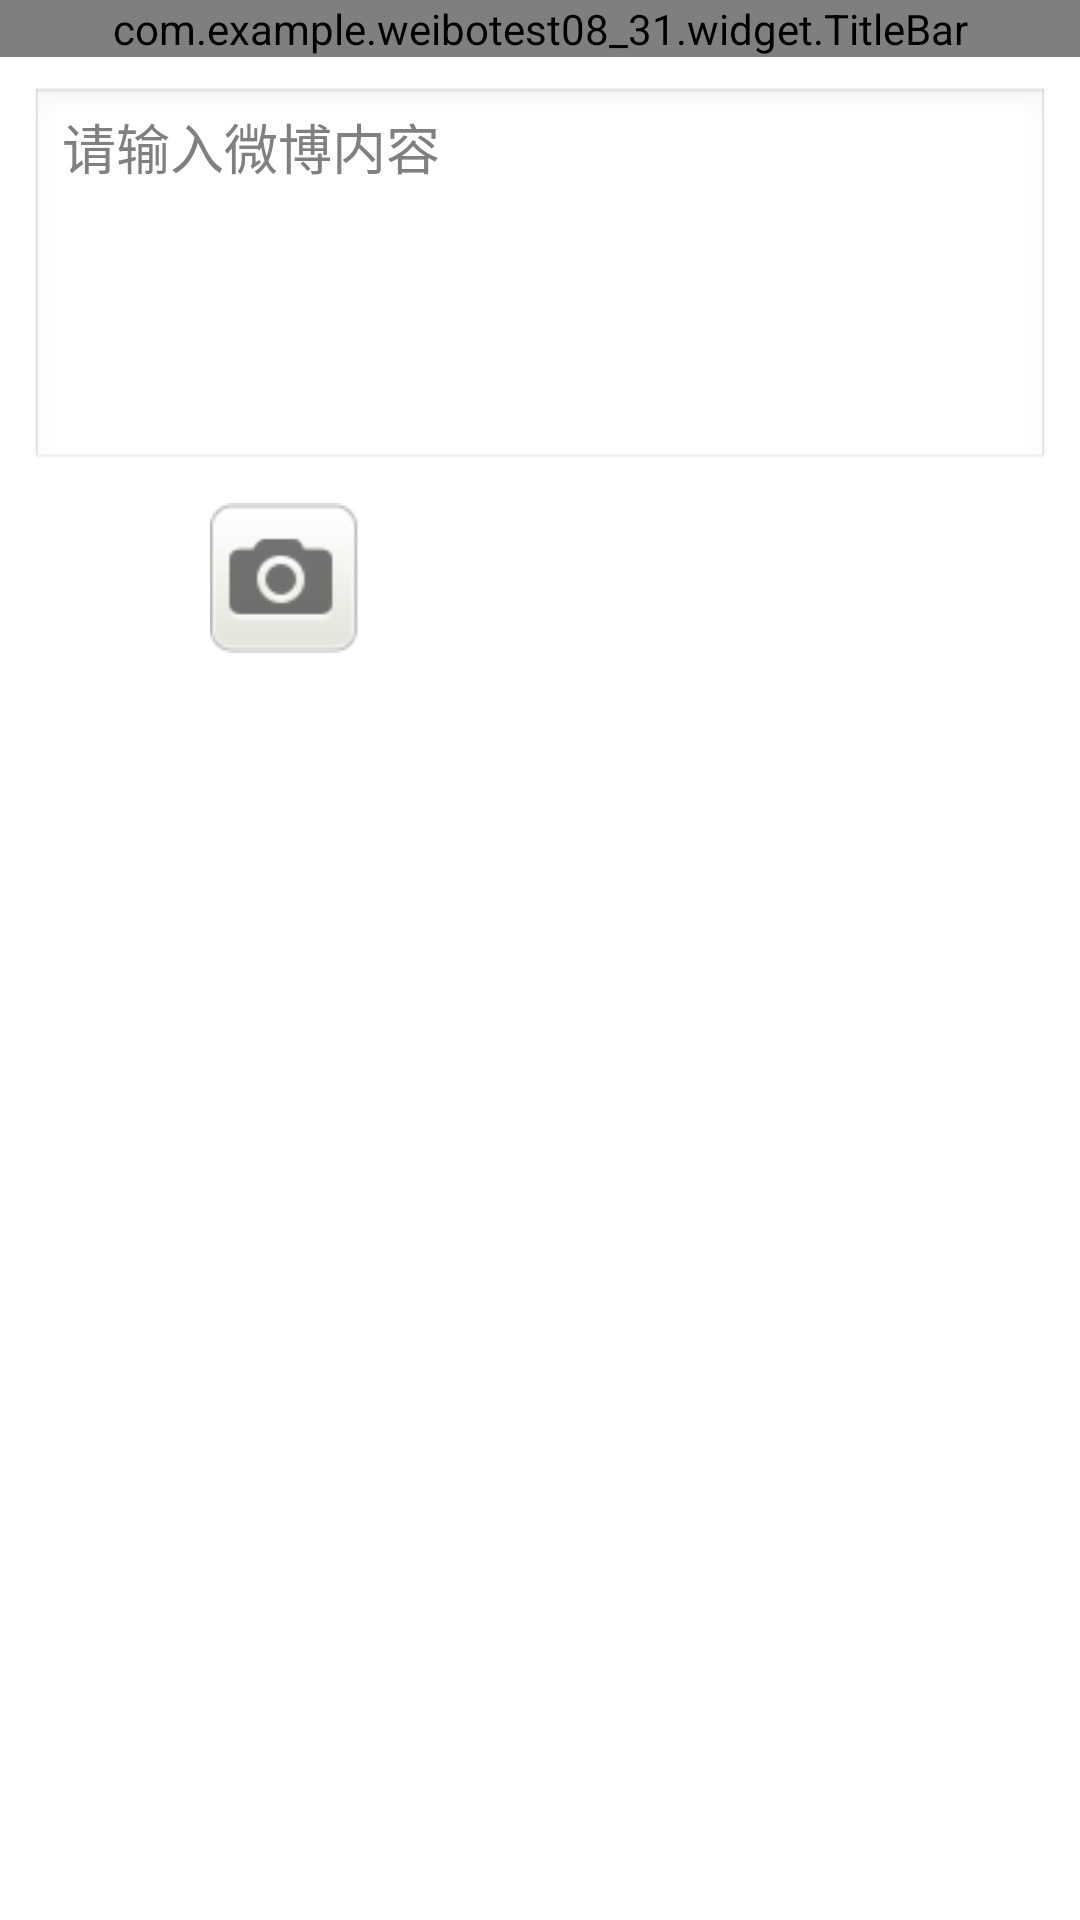

Named icons in this screenshot (1080x1920) and their centers, (x,y):
acty say take pic: (284,578)
